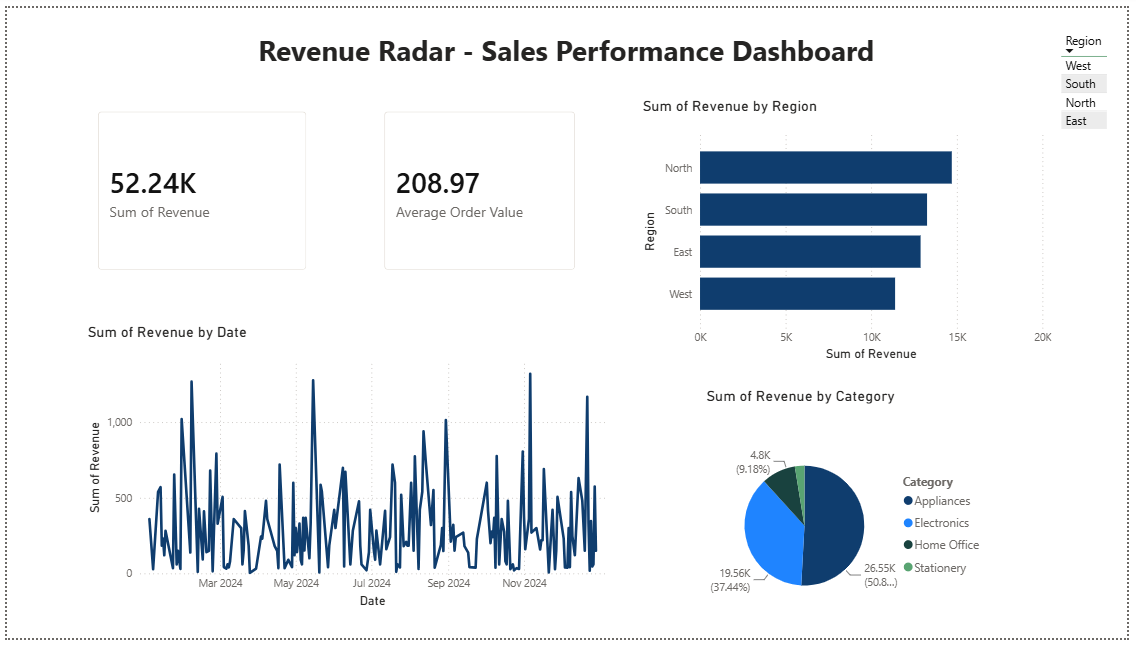

The page's visual inventory and layout, read from the dashboard file:
{"tool":"powerbi","page":{"name":"Page 1","canvas":[1280,720],"ordinal":0},"visuals":[{"type":"cardVisual","fields":{"Data":["Sum(Sheet1.Revenue)"]},"box":[87.1,101.4,272.9,215.7],"z":0},{"type":"clusteredBarChart","fields":{"Category":["Sheet1.Region"],"Y":["Sum(Sheet1.Revenue)"]},"box":[721.4,101.4,477.1,307.1],"z":1000},{"type":"lineChart","fields":{"Y":["Sum(Sheet1.Revenue)"],"Category":["Sheet1.Date"]},"box":[87.1,360,617.1,330],"z":2000},{"type":"pieChart","fields":{"Category":["Sheet1.Category"],"Y":["Sum(Sheet1.Revenue)"]},"box":[794.3,432.9,331.4,287.1],"z":3000},{"type":"cardVisual","fields":{"Data":["Sheet1.Average Order Value"]},"box":[414.3,101.4,252.9,215.7],"z":4000},{"type":"textbox","box":[31.4,21.4,1215.7,55.7],"z":5000},{"type":"tableEx","fields":{"Values":["Sheet1.Region"]},"box":[1198.6,21.4,74.3,131.4],"z":5001}]}

Visuals, with their boxes in screenshot pixels (x1, y1, x2, y2), scaled from the page's 1280x720 canvas onto the 1136x647 screenshot:
cardVisual - Sum(Sheet1.Revenue): x1=77, y1=91, x2=320, y2=285
clusteredBarChart - Sheet1.Region x Sum(Sheet1.Revenue): x1=640, y1=91, x2=1064, y2=367
lineChart - Sum(Sheet1.Revenue) x Sheet1.Date: x1=77, y1=324, x2=625, y2=620
pieChart - Sheet1.Category x Sum(Sheet1.Revenue): x1=705, y1=389, x2=999, y2=646
cardVisual - Sheet1.Average Order Value: x1=368, y1=91, x2=592, y2=285
textbox: x1=28, y1=19, x2=1107, y2=69
tableEx - Sheet1.Region: x1=1064, y1=19, x2=1130, y2=137
